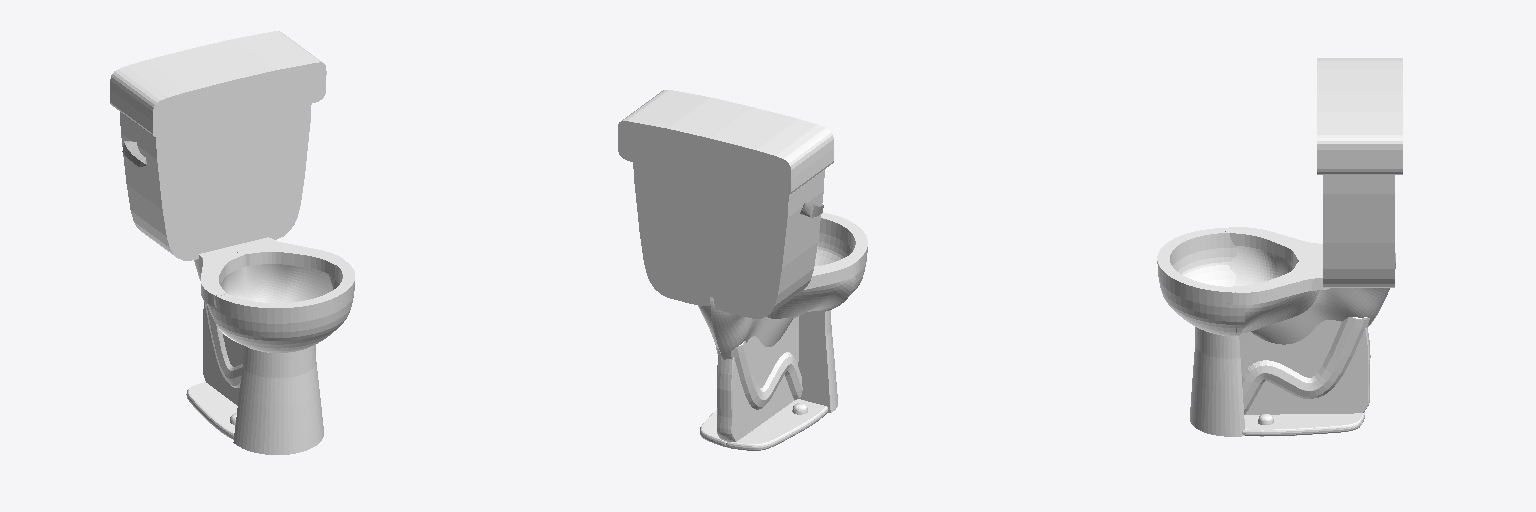
Rendered from toilet.obj.
3 renders of one model, left to right at view 1: azimuth 30°, elevation 25°; view 2: azimuth 150°, elevation 25°; view 3: azimuth 270°, elevation 25°, orthographic.
Parts seen in each view (by area): view 1: p0010.96999, p0006.06973, p0006.06973.Mirror, r0001.66731, r0000.03976, c0008.83300, p0007.42400.Mirror, p0007.42400, p0004.84911.Mirror, p0003.83917, p0005.77294.Mirror, c0008.83300.Mirror; view 2: p0010.96999, p0006.06973, p0006.06973.Mirror, p0004.84911.Mirror, r0001.66731, c0011.19664, r0000.03976, p0003.83917, p0005.77294.Mirror, c0002.67749, p0007.42400; view 3: p0010.96999, p0006.06973.Mirror, r0000.03976, p0004.84911, r0001.66731, p0005.77294, c0011.19664.Mirror, p0003.83917.Mirror, p0007.42400.Mirror, p0007.42400, c0008.83300.Mirror, c0002.67749.Mirror.
Part boxes in pixels (left/top/right/bottom): p0010.96999: left=110, top=31, right=326, bottom=137; p0006.06973: left=120, top=112, right=233, bottom=260; p0006.06973.Mirror: left=224, top=104, right=311, bottom=245; r0001.66731: left=233, top=344, right=323, bottom=454; r0000.03976: left=211, top=260, right=354, bottom=352; c0008.83300: left=245, top=264, right=332, bottom=302; p0007.42400.Mirror: left=227, top=237, right=343, bottom=276; p0007.42400: left=198, top=244, right=246, bottom=307; p0004.84911.Mirror: left=203, top=302, right=243, bottom=405; p0003.83917: left=186, top=382, right=237, bottom=439; p0005.77294.Mirror: left=204, top=301, right=242, bottom=387; c0008.83300.Mirror: left=221, top=267, right=248, bottom=300; p0010.96999: left=618, top=90, right=833, bottom=195; p0006.06973: left=701, top=170, right=824, bottom=318; p0006.06973.Mirror: left=633, top=162, right=709, bottom=305; p0004.84911.Mirror: left=718, top=324, right=798, bottom=441; r0001.66731: left=798, top=310, right=837, bottom=412; c0011.19664: left=710, top=297, right=792, bottom=359; r0000.03976: left=814, top=212, right=867, bottom=310; p0003.83917: left=726, top=399, right=827, bottom=450; p0005.77294.Mirror: left=726, top=341, right=802, bottom=409; c0002.67749: left=767, top=275, right=855, bottom=318; p0007.42400: left=804, top=254, right=859, bottom=289; p0010.96999: left=1317, top=58, right=1402, bottom=174; p0006.06973.Mirror: left=1323, top=175, right=1394, bottom=287; r0000.03976: left=1157, top=228, right=1245, bottom=335; p0004.84911: left=1240, top=320, right=1369, bottom=414; r0001.66731: left=1190, top=327, right=1244, bottom=436; p0005.77294: left=1242, top=317, right=1369, bottom=414; c0011.19664.Mirror: left=1251, top=253, right=1395, bottom=344; p0003.83917.Mirror: left=1242, top=412, right=1364, bottom=436; p0007.42400.Mirror: left=1228, top=257, right=1329, bottom=304; p0007.42400: left=1225, top=227, right=1322, bottom=265; c0008.83300.Mirror: left=1228, top=246, right=1294, bottom=285; c0002.67749.Mirror: left=1236, top=290, right=1319, bottom=332.
Size of the model in its own units: 0.6919 by 1.21 by 0.8255.